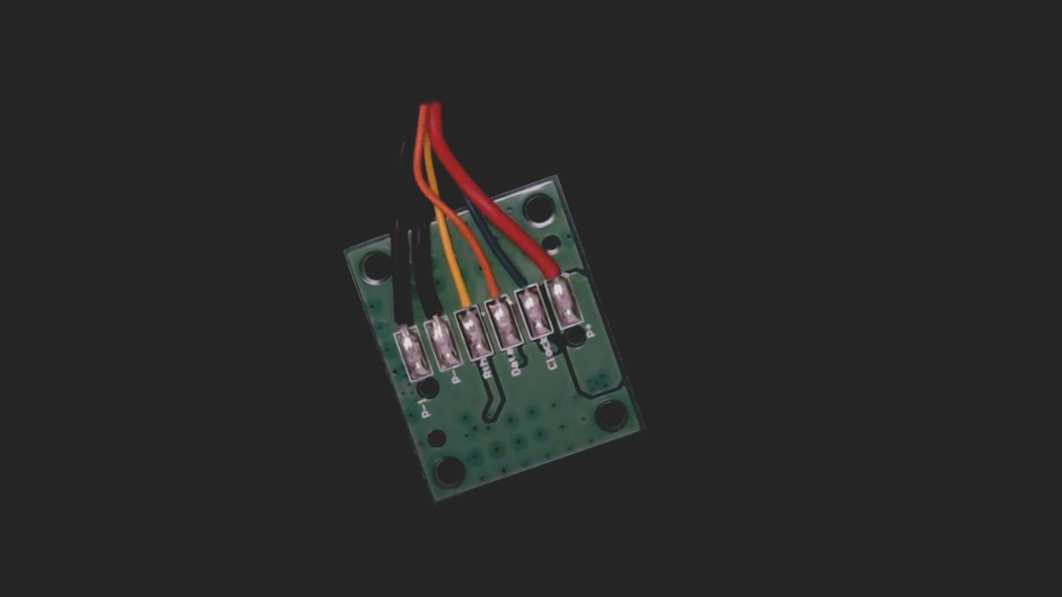Black: (407, 272, 454, 338)
Black1: (376, 287, 417, 349)
Green: (502, 250, 540, 306)
Orange: (466, 252, 512, 317)
Red: (528, 235, 571, 296)
Yellow: (437, 259, 485, 326)
